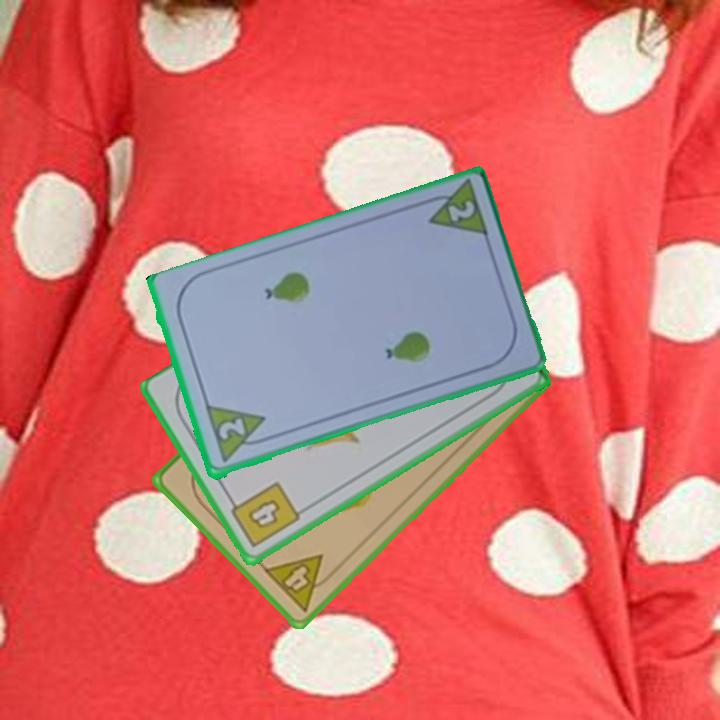2p: (202, 402, 274, 467), (443, 197, 478, 226)
4b: (224, 478, 303, 551)
4p: (259, 550, 340, 615)
